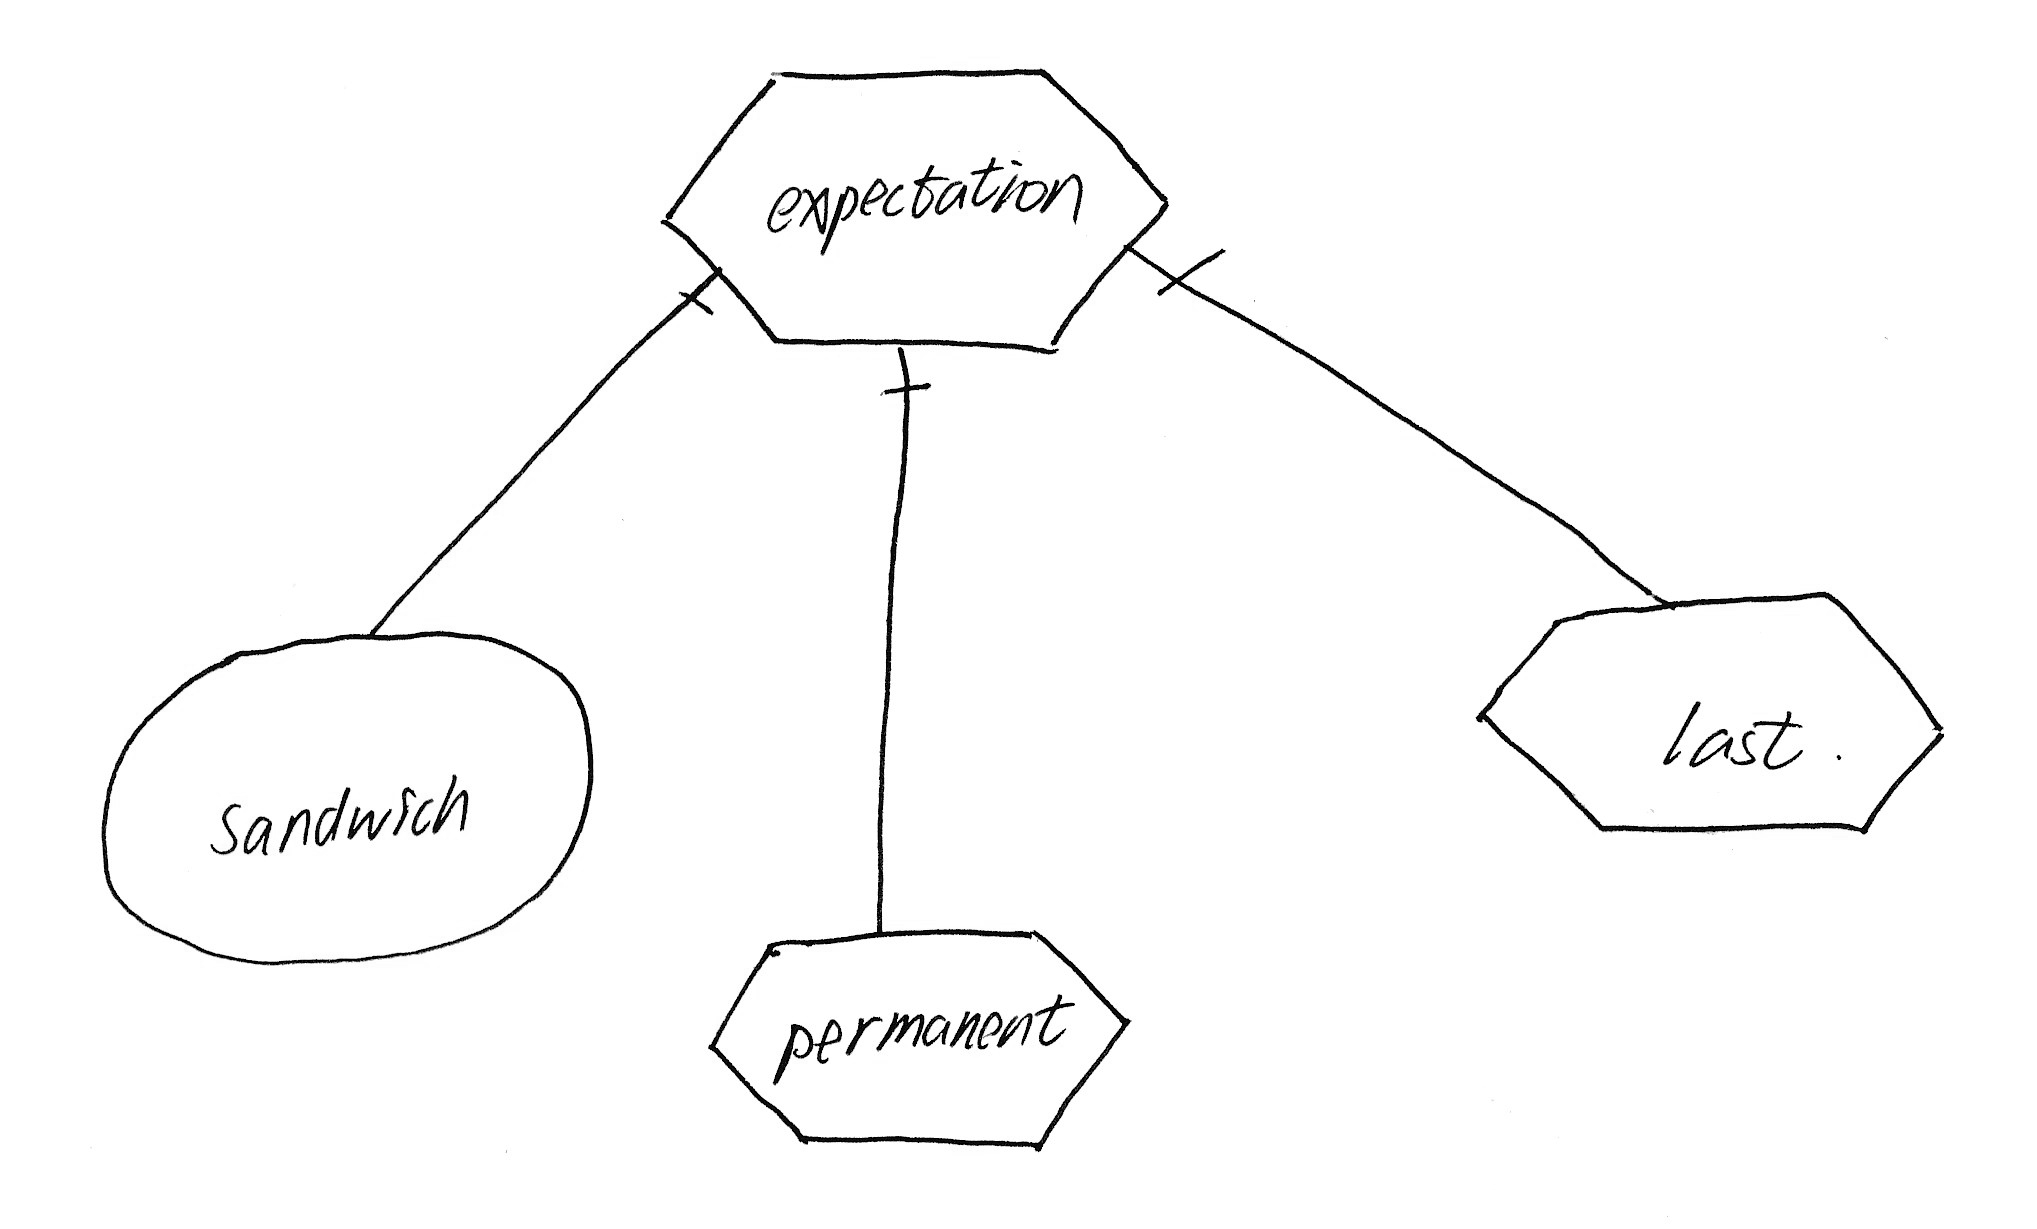and: (1113, 233, 1243, 307), (869, 329, 944, 410), (666, 255, 732, 332)
goal: (76, 612, 618, 986)
task: (645, 49, 1193, 380), (1452, 575, 1966, 860), (698, 910, 1144, 1166)
